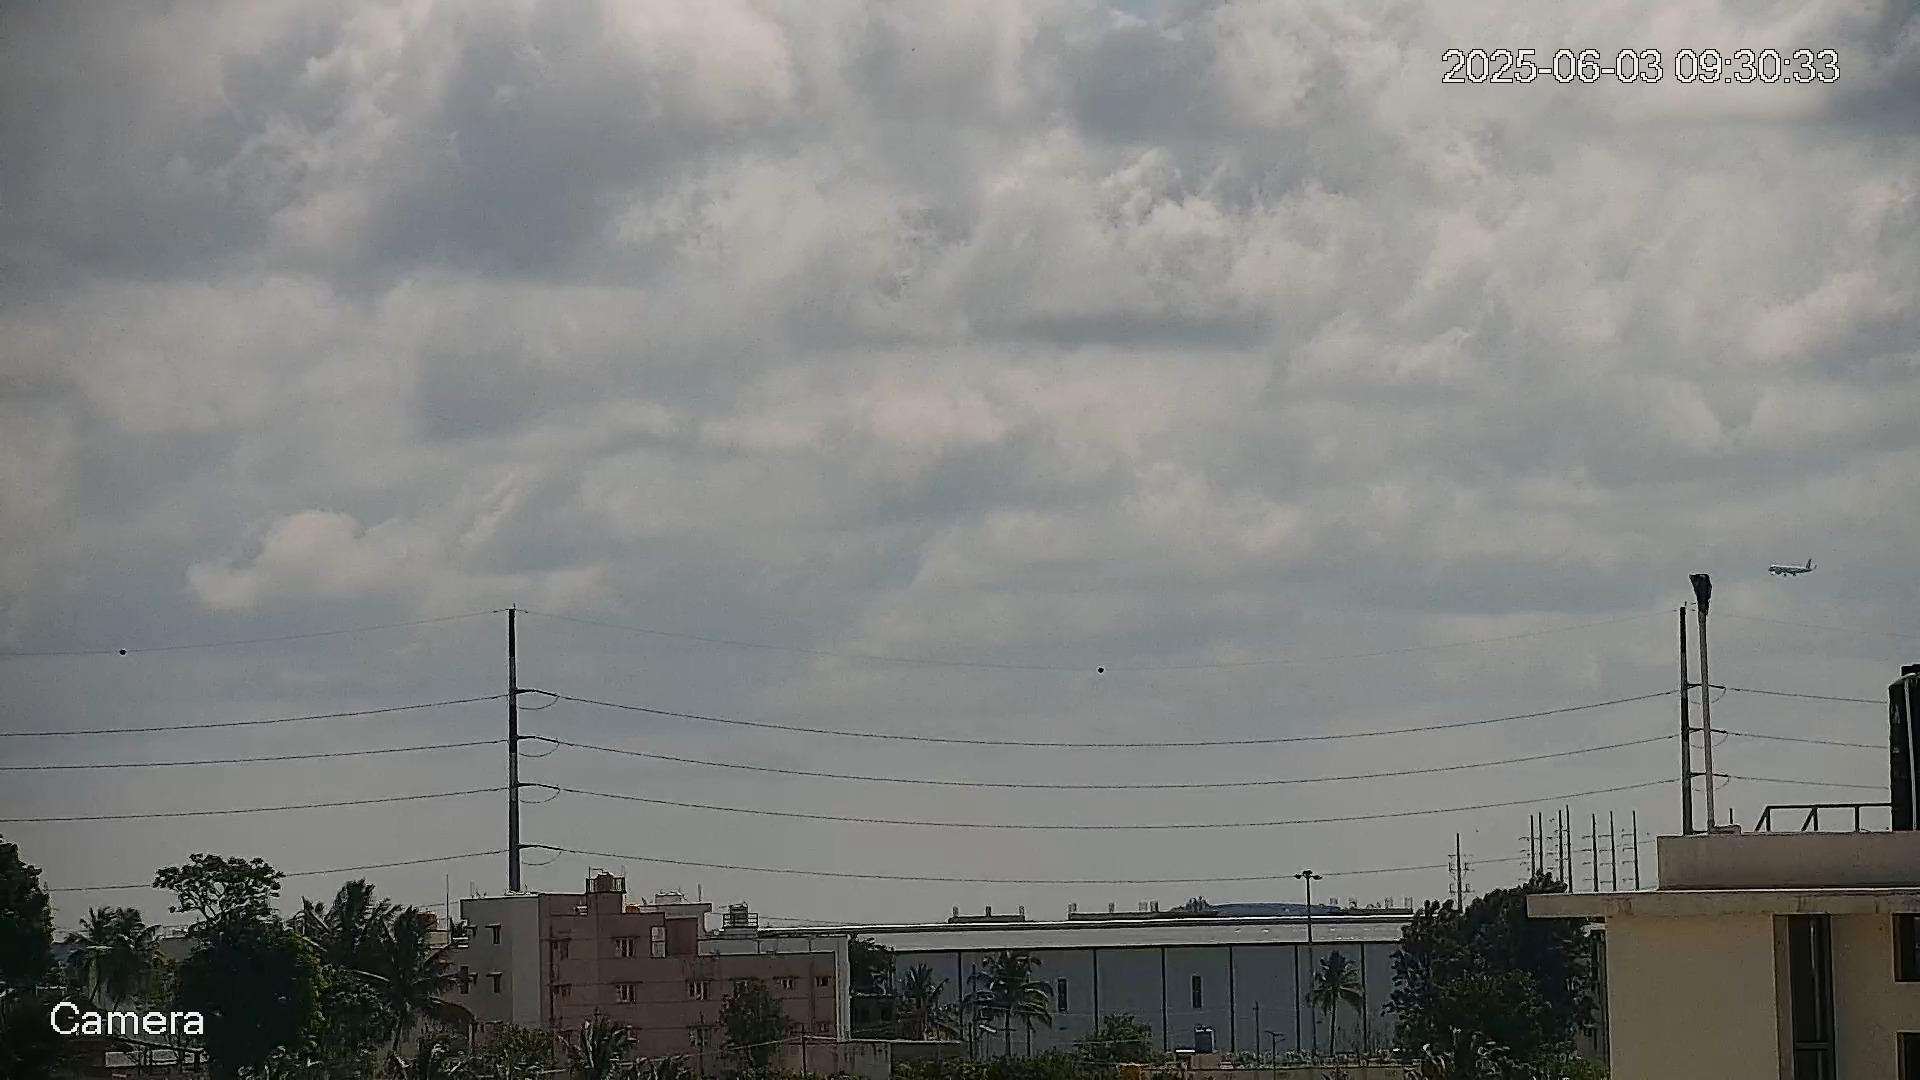Aircraft: (1767, 558, 1817, 582)
